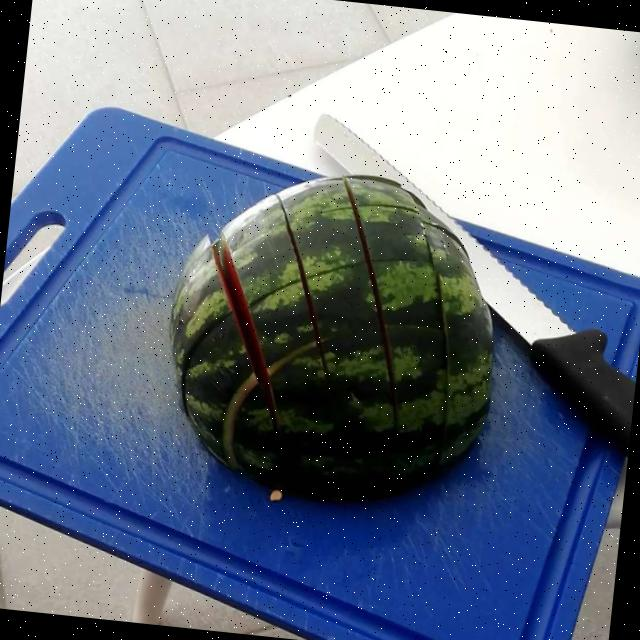watermelon-fresh: (179, 184, 489, 500)
